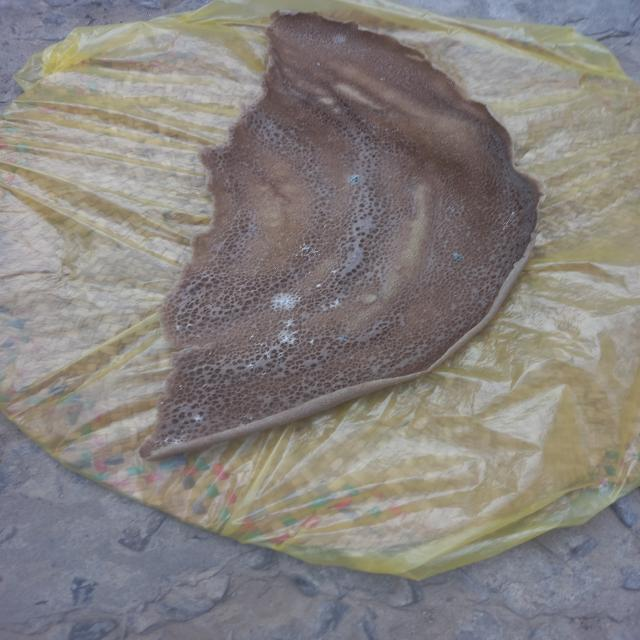injera_mold: (266, 292, 305, 312), (279, 319, 297, 350), (297, 244, 318, 259), (350, 172, 363, 192), (162, 435, 185, 446), (325, 299, 342, 311), (450, 251, 466, 261), (335, 332, 349, 343), (191, 412, 204, 423), (262, 351, 274, 362), (245, 362, 258, 372), (246, 333, 260, 342), (245, 414, 258, 422), (447, 205, 457, 215), (502, 220, 512, 230), (377, 76, 388, 83), (328, 269, 340, 275), (199, 383, 211, 389), (186, 321, 193, 331), (176, 384, 185, 391), (313, 283, 325, 288), (308, 339, 318, 345), (175, 324, 181, 334), (510, 210, 518, 217), (238, 421, 246, 428), (316, 60, 322, 69), (306, 270, 315, 276), (180, 426, 186, 434), (282, 79, 288, 86), (322, 223, 328, 230), (260, 372, 268, 376), (159, 401, 164, 405)
